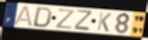8: (115, 13, 131, 35)
A: (13, 5, 34, 28)
D: (31, 6, 54, 28)
K: (96, 11, 113, 33)
Z: (73, 9, 94, 32), (54, 8, 75, 30)
